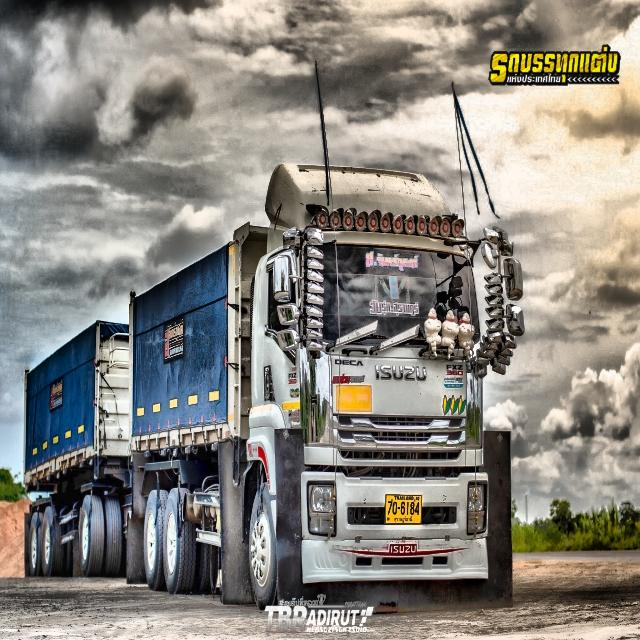trailer: (15, 154, 520, 627)
